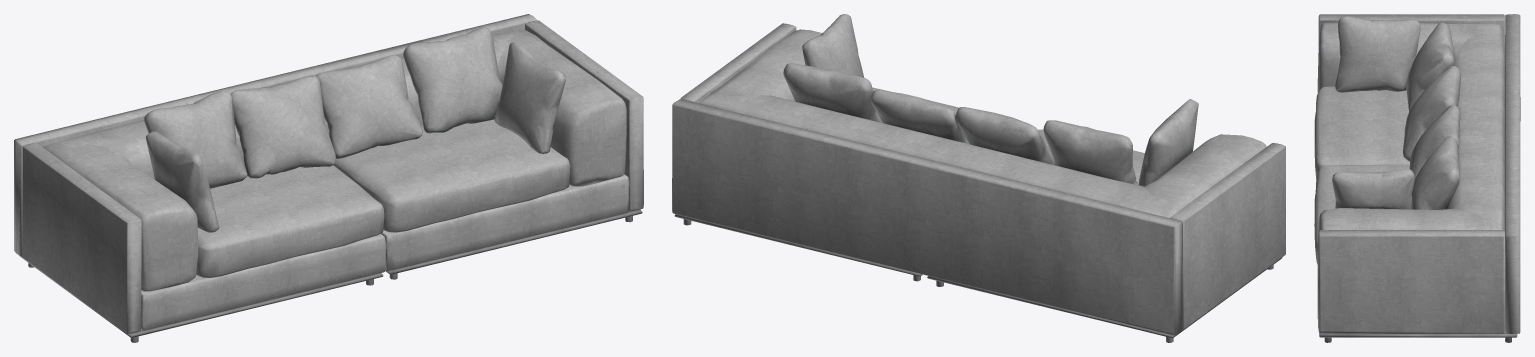
Rendered from sofa-contemporary-opt.glb.
3 renders of one model, left to right at view 1: azimuth 30°, elevation 25°; view 2: azimuth 150°, elevation 25°; view 3: azimuth 270°, elevation 25°, orthographic. The views are drawn at different scales.
Visible parts, largest first — view 1: defaultMaterial (×6); view 2: defaultMaterial (×5); view 3: defaultMaterial (×5).
Part boxes in pixels (x1,y1,x2,y2): defaultMaterial (×6): (14,14,643,342); defaultMaterial (×5): (672,14,1285,342); defaultMaterial (×5): (1314,14,1520,342).
Bounding box in the file's own units: 2 × 0.6017 × 0.7831.
Materials: 6 (6 with a texture image).
